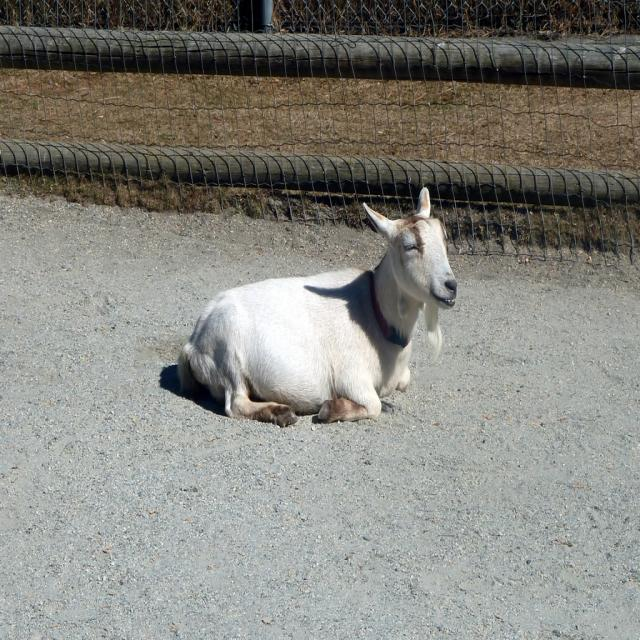Goat: (175, 188, 457, 426)
